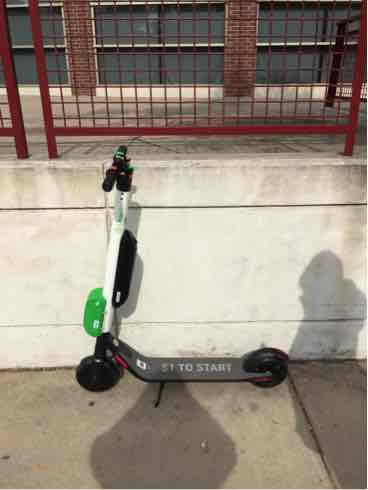scooter: (69, 128, 290, 405)
